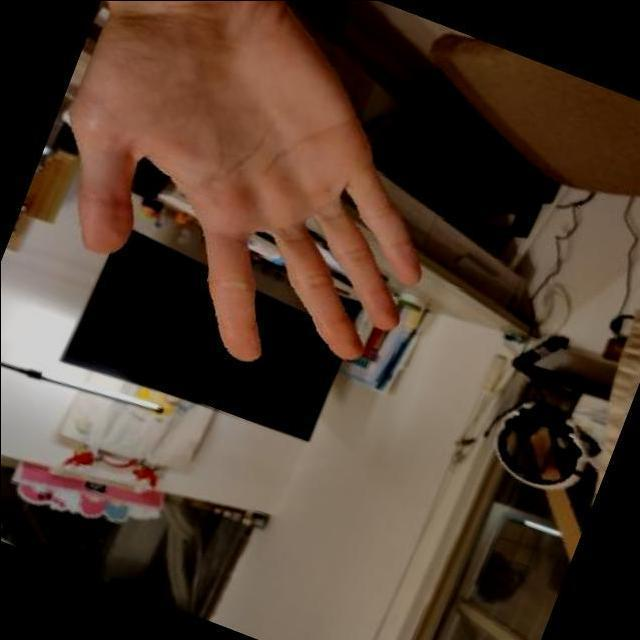hand: (61, 0, 429, 365)
